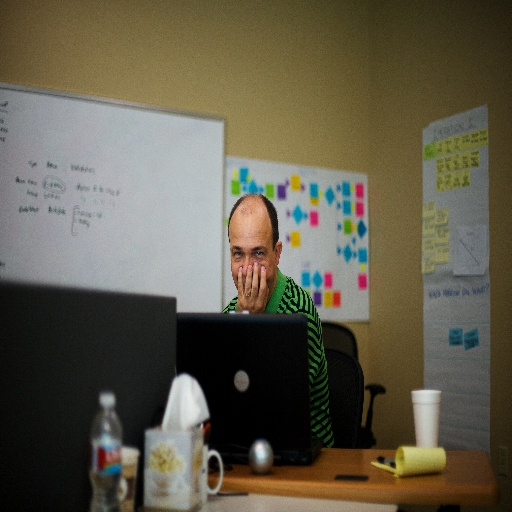hand: (229, 252, 277, 301)
